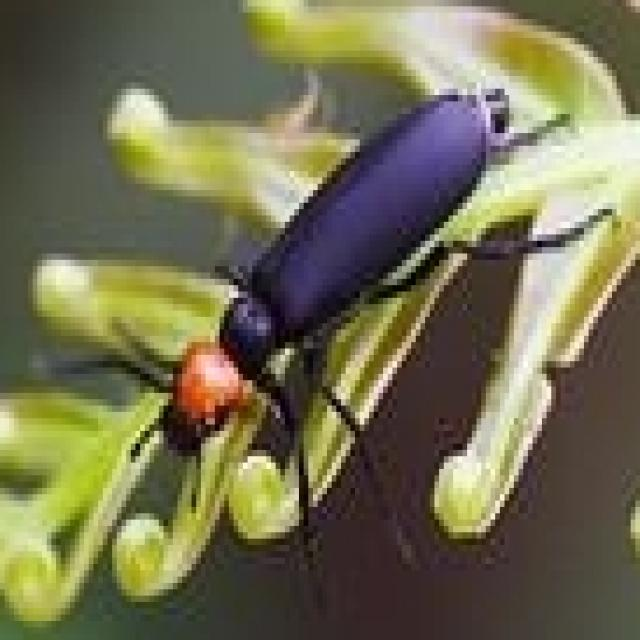BlisterBeetle-Adult-: (102, 65, 617, 536)
